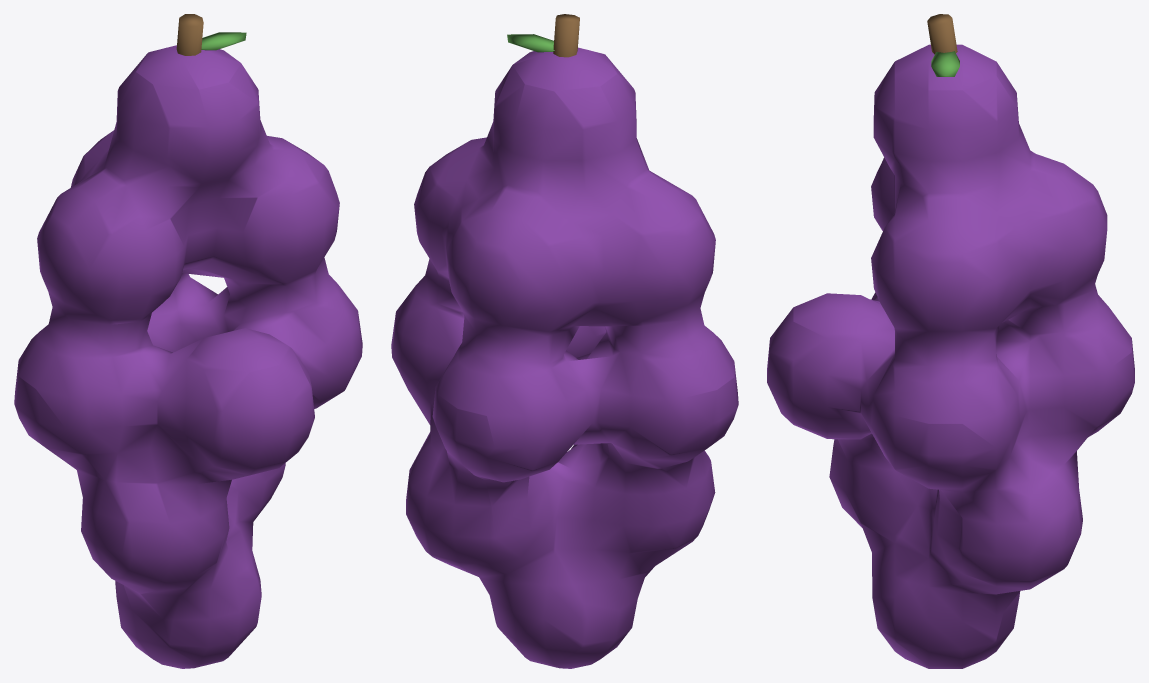
The model's file is grape.glb.
The picture shows the model from 3 angles, left to right: view 1: azimuth 30°, elevation 25°; view 2: azimuth 150°, elevation 25°; view 3: azimuth 270°, elevation 25°; orthographic projection.
Parts seen in each view (by area): view 1: grape; view 2: grape; view 3: grape.
Boxes of the visible parts, x1,y1,x2,y2 form: grape: (14, 14, 362, 668); grape: (391, 14, 738, 668); grape: (767, 14, 1134, 668).
Bounding box in the file's own units: 0.5331 × 1 × 0.5181.
